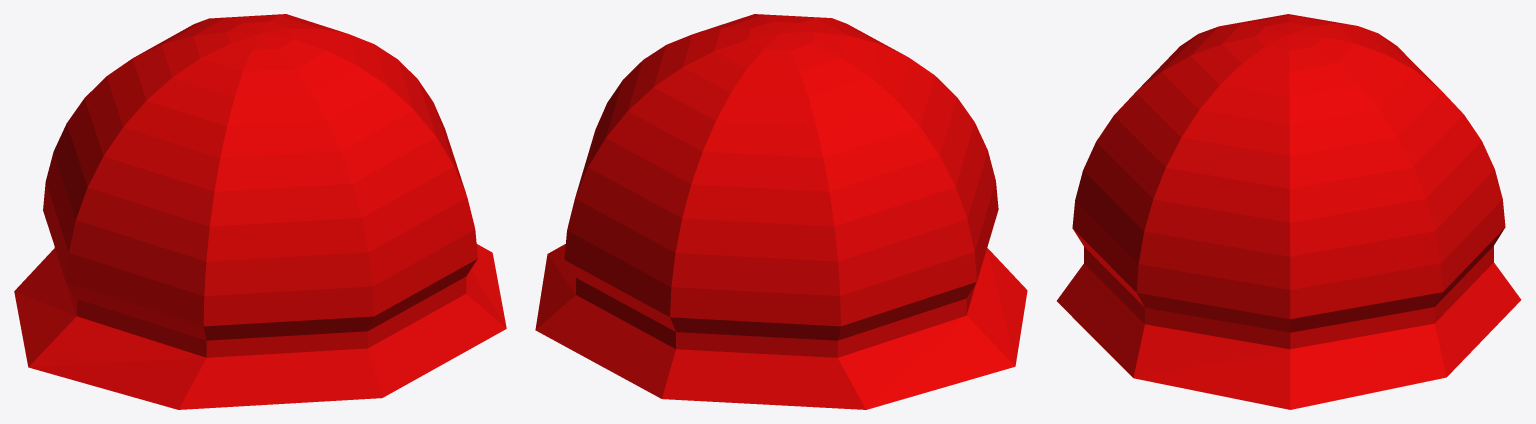
Rendered from mdl_Corredor_Buzon.fbx.
3 views of the same model, side by side, from view 1: azimuth 30°, elevation 25°; view 2: azimuth 150°, elevation 25°; view 3: azimuth 270°, elevation 25° (orthographic). The views are drawn at different scales.
Parts seen in each view (by area): view 1: mdl_Corredor_Buzon; view 2: mdl_Corredor_Buzon; view 3: mdl_Corredor_Buzon.
Part boxes in pixels (x1,y1,x2,y2): mdl_Corredor_Buzon: (14, 14, 506, 409); mdl_Corredor_Buzon: (535, 14, 1027, 409); mdl_Corredor_Buzon: (1057, 14, 1521, 409).
Bounding box in the file's own units: 2.39 × 1.36 × 2.15.
